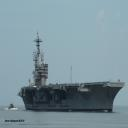Portanaves: (19, 31, 127, 115)
